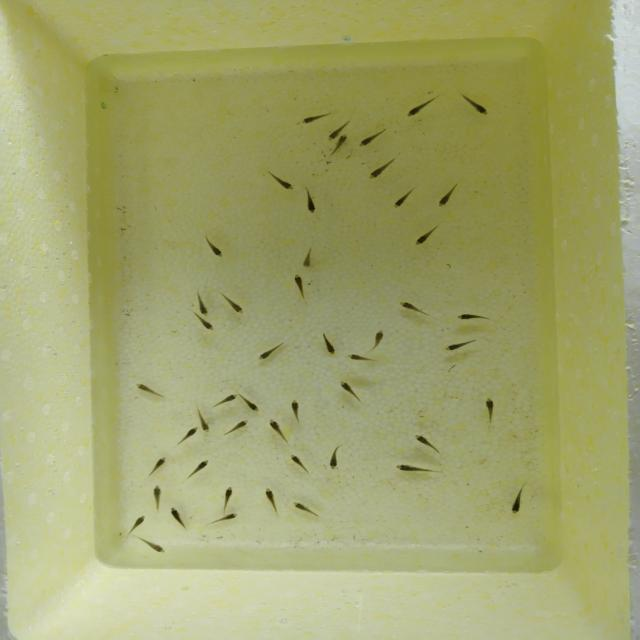fingerling: (504, 488, 537, 520), (366, 156, 400, 182), (385, 300, 433, 316), (476, 392, 502, 420), (284, 272, 316, 294), (336, 376, 364, 401), (386, 190, 414, 214), (282, 394, 306, 420), (162, 504, 190, 526), (384, 464, 438, 475), (145, 453, 173, 474), (343, 346, 369, 368), (286, 114, 332, 126), (436, 340, 470, 356), (261, 484, 282, 508), (448, 310, 484, 324), (326, 447, 346, 472), (127, 512, 152, 532), (129, 381, 162, 396), (272, 174, 296, 194), (316, 338, 342, 356), (218, 484, 239, 506), (412, 431, 436, 450), (288, 452, 310, 472), (370, 325, 390, 347), (196, 316, 218, 336), (414, 228, 434, 250), (434, 188, 456, 208), (467, 104, 498, 118), (250, 348, 278, 363), (359, 128, 375, 154), (205, 242, 228, 260), (146, 486, 166, 506), (403, 104, 428, 120), (191, 298, 213, 316), (294, 254, 316, 272), (330, 134, 352, 152), (290, 502, 318, 516), (228, 419, 252, 435), (142, 542, 173, 554), (319, 128, 350, 140), (304, 196, 320, 217), (191, 458, 209, 476), (211, 512, 243, 522), (180, 427, 200, 442), (221, 391, 242, 405), (240, 401, 266, 412), (268, 418, 282, 438), (226, 300, 246, 314), (196, 416, 211, 432)
